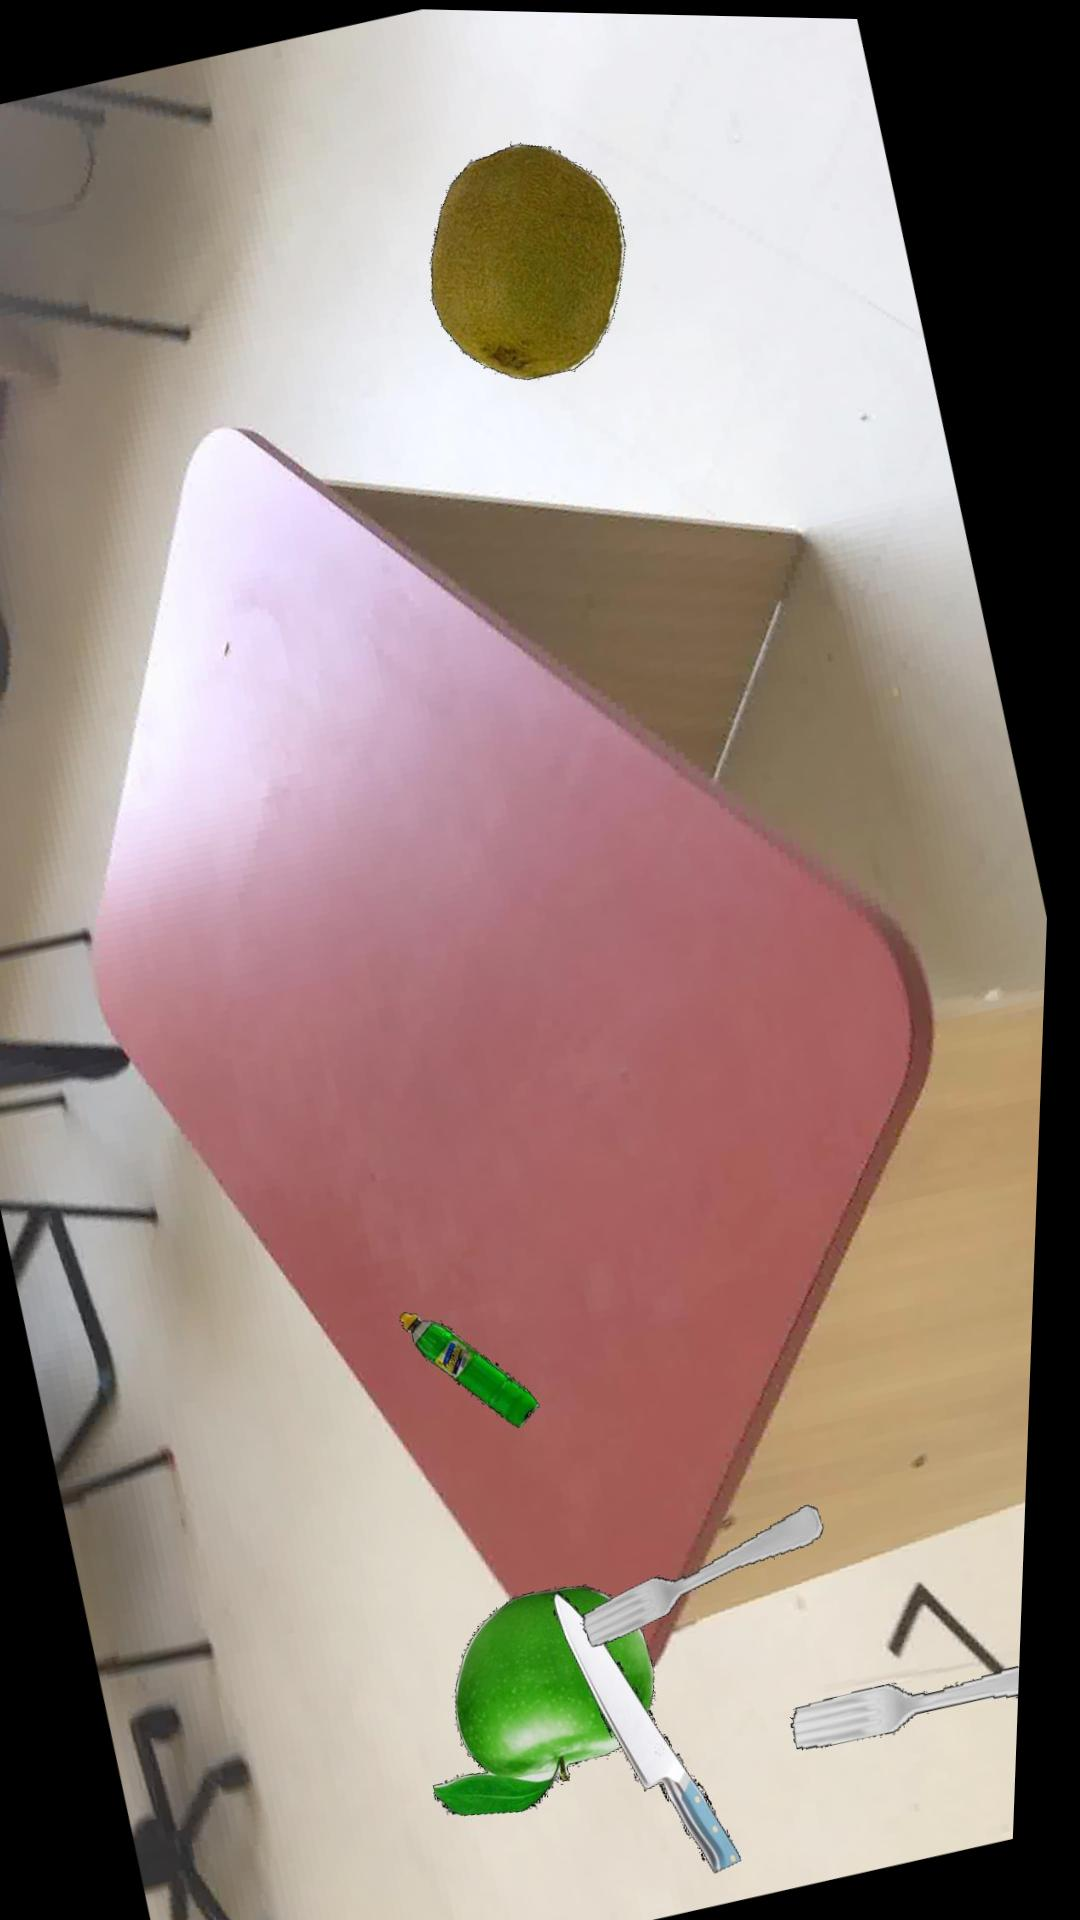cleaner: (411, 1311, 553, 1427)
fork: (597, 1502, 837, 1644), (806, 1663, 1033, 1747)
green apple: (450, 1582, 670, 1815)
kiwi: (435, 142, 630, 378)
knife: (567, 1589, 757, 1870)
